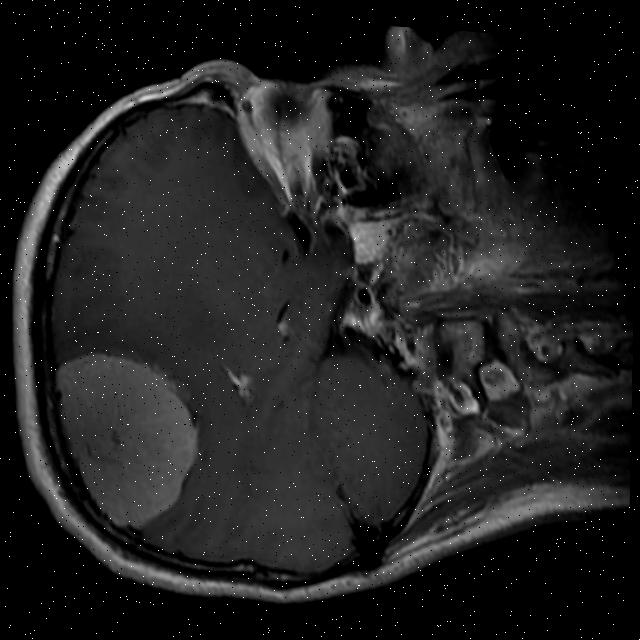Meningioma: (40, 324, 223, 547)
